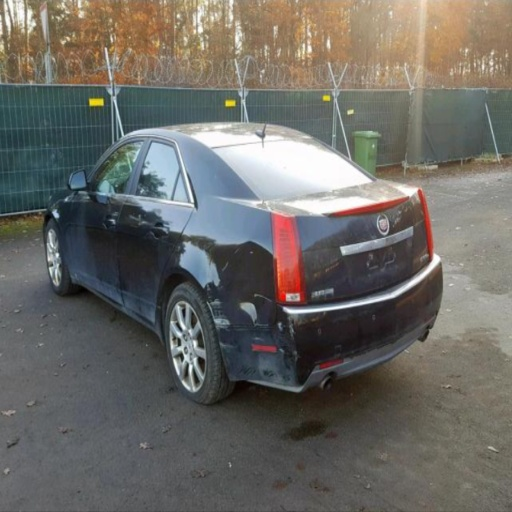dent: (209, 241, 296, 383)
scratch: (207, 296, 232, 331), (253, 294, 275, 305), (218, 340, 237, 350), (293, 348, 303, 360), (220, 260, 230, 272), (289, 323, 295, 340), (277, 322, 285, 333), (234, 246, 242, 256), (252, 336, 264, 341), (280, 348, 287, 354)
